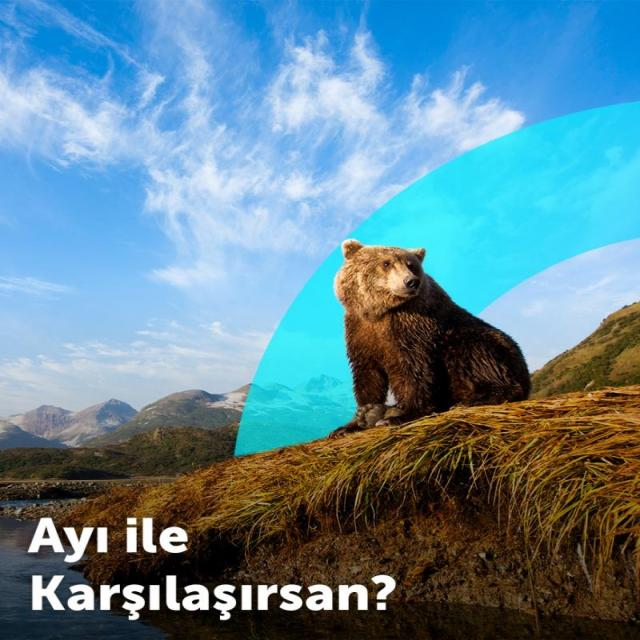Bear: (334, 242, 532, 431)
